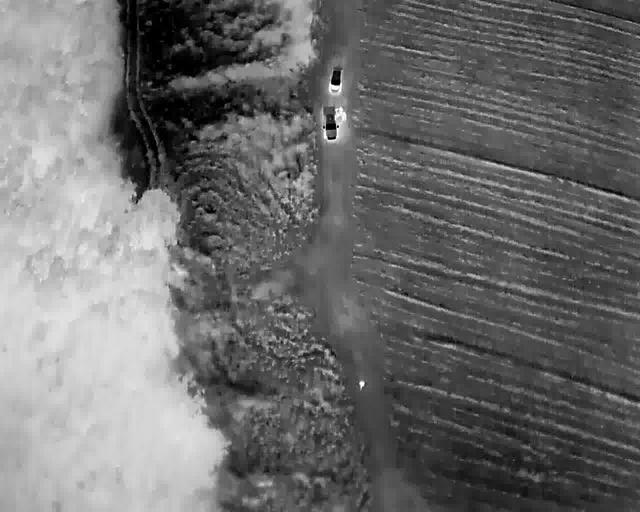car: (321, 106, 339, 141), (328, 68, 342, 96)
person: (359, 380, 364, 390), (341, 111, 346, 120), (338, 106, 343, 115)
